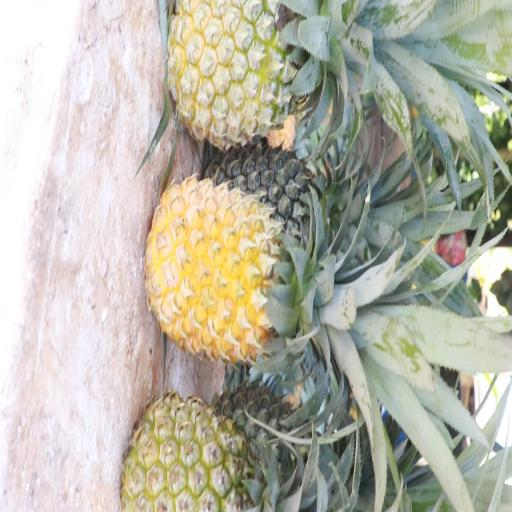------------------------------: (168, 0, 339, 145), (127, 394, 280, 512)
Pineapple - v8 v1: (148, 174, 326, 360)
